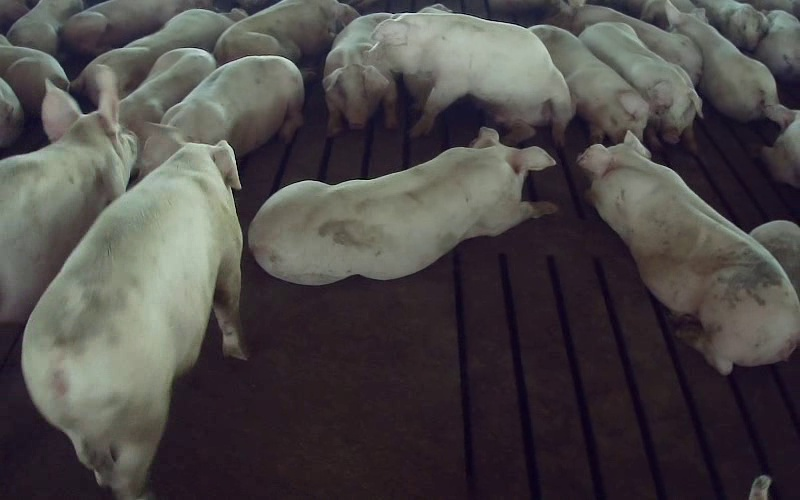pig: (22, 130, 245, 499), (578, 134, 799, 373), (248, 127, 554, 284), (0, 67, 136, 322), (368, 13, 572, 144), (665, 0, 793, 126), (71, 9, 246, 101), (579, 22, 701, 150), (161, 57, 302, 156), (529, 25, 648, 142), (546, 0, 701, 84), (214, 0, 358, 64), (119, 48, 215, 144), (323, 13, 396, 135), (61, 0, 211, 55), (693, 0, 768, 50)
